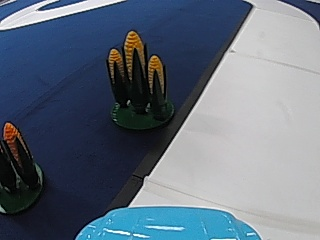corn: (104, 28, 177, 131), (0, 118, 46, 213)
